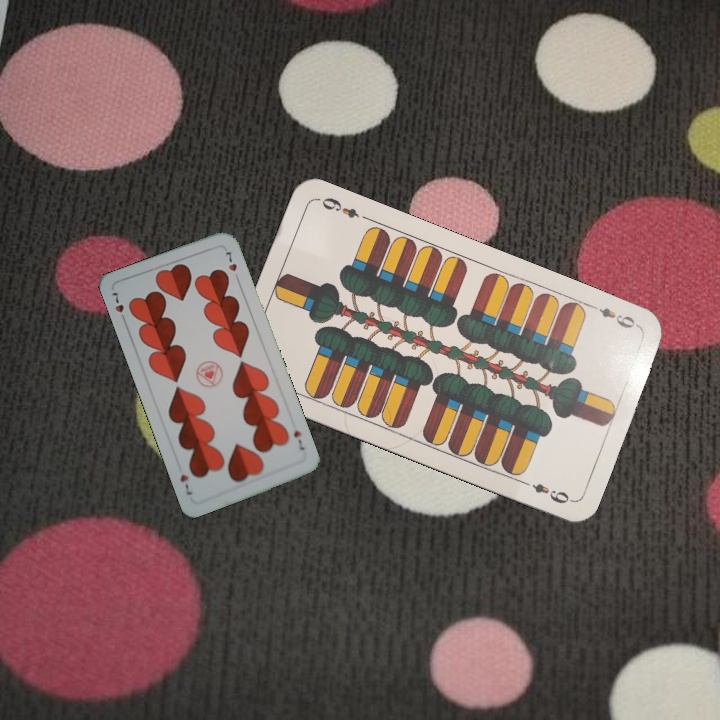E9: (586, 300, 642, 331)
H7: (107, 288, 129, 326), (290, 426, 307, 453)
